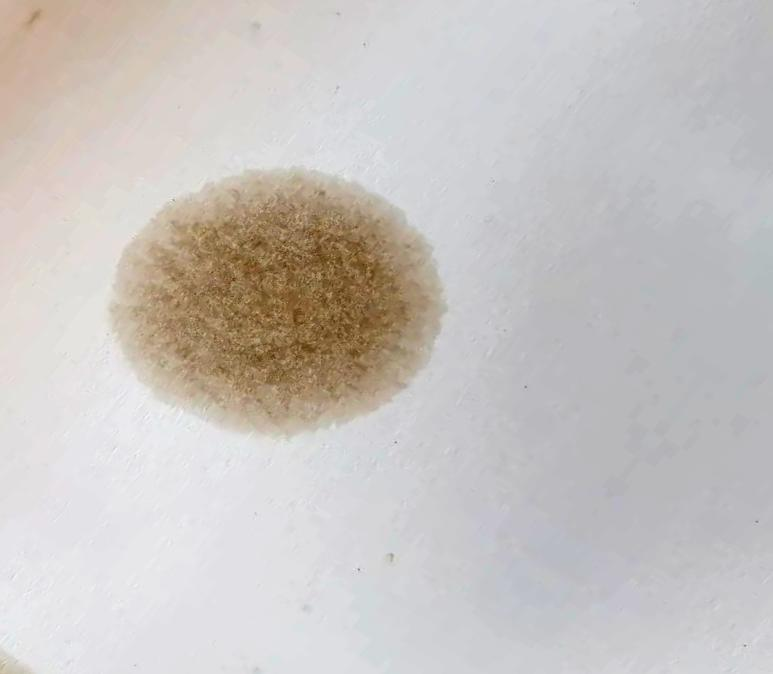stain: (93, 159, 459, 442)
